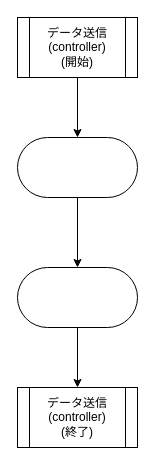
Some shapes in this 155 by 465 pixel diagram are drawn without their labels. Each missing label, with the centre of its shape:
データ受け取り: point 77,167
データ送信先 受け取り: point 77,297
